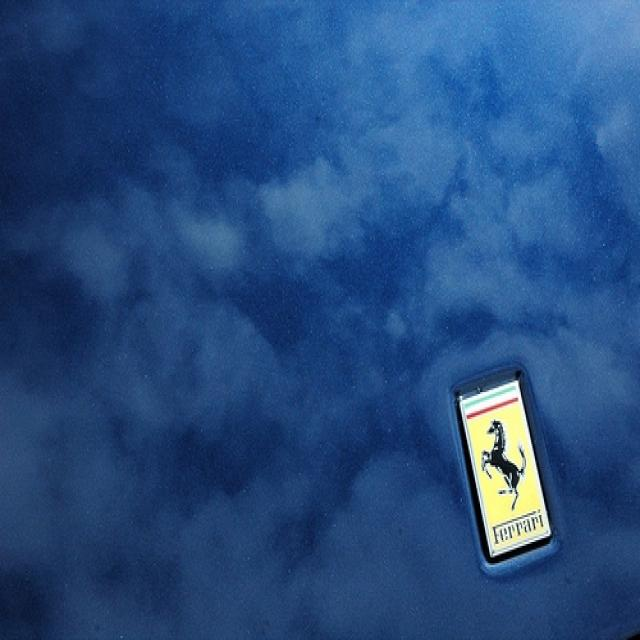ferrari: (459, 382, 553, 557)
